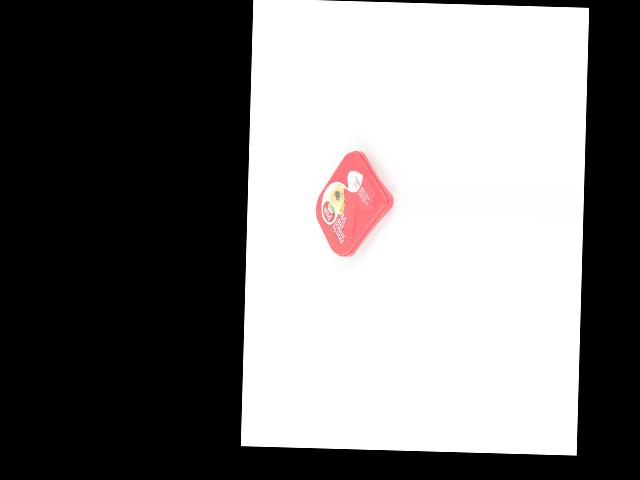cheese: (314, 149, 395, 258)
